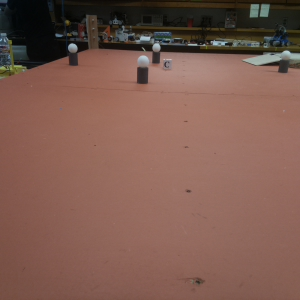blockC: (161, 59, 173, 70)
obstacle: (279, 50, 291, 75), (138, 57, 149, 84), (67, 44, 78, 65), (152, 44, 160, 64)
slope: (248, 51, 282, 69), (86, 15, 99, 49)
